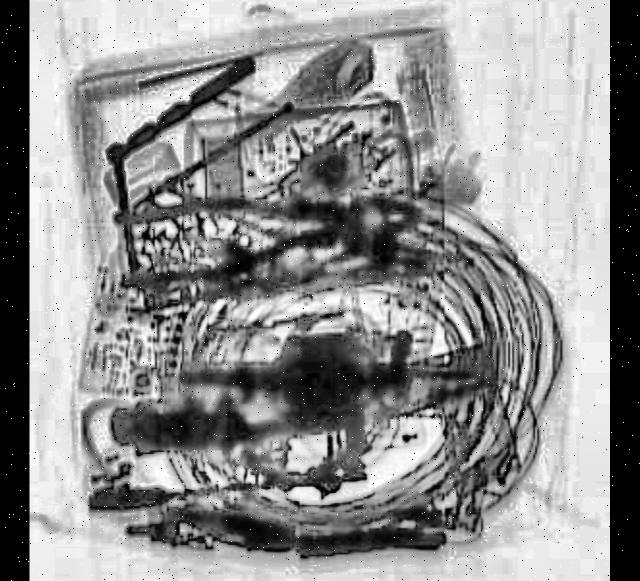Pliers: (115, 168, 428, 286)
